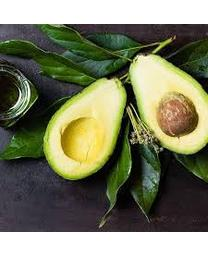avocado: (42, 75, 128, 182), (127, 53, 207, 154)
